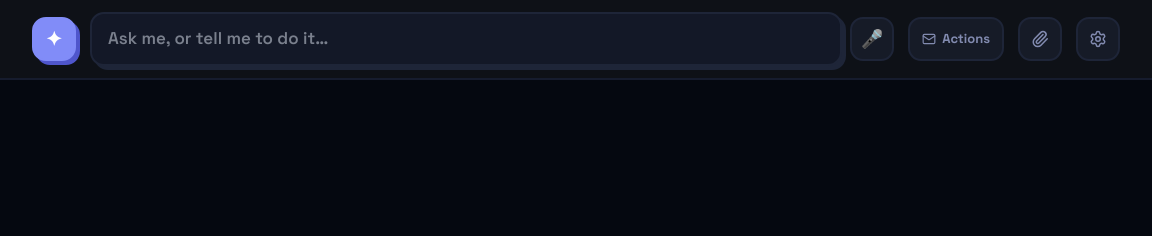
CopilotBar — escalate to cloud agent (unified bar) › tags a concierge turn with a SUBTLE cloud+model engine tag (one concierge — never a separate "cloud agent")
The width and height of the screenshot is (1152, 236).
Note: The thread (and its source tag) renders only when the panel is open — focus the input to open it.
Click the field named "Ask the copilot" at (466, 39), box [90, 12, 842, 66]
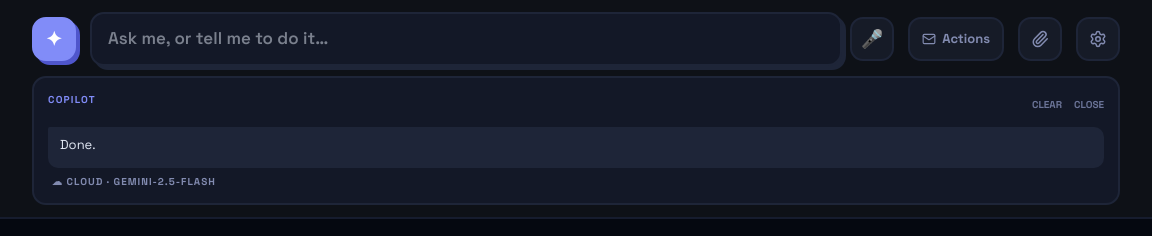
Result: the text "☁ cloud · gemini-2.5-flash" is shown at [52, 175, 216, 188]
